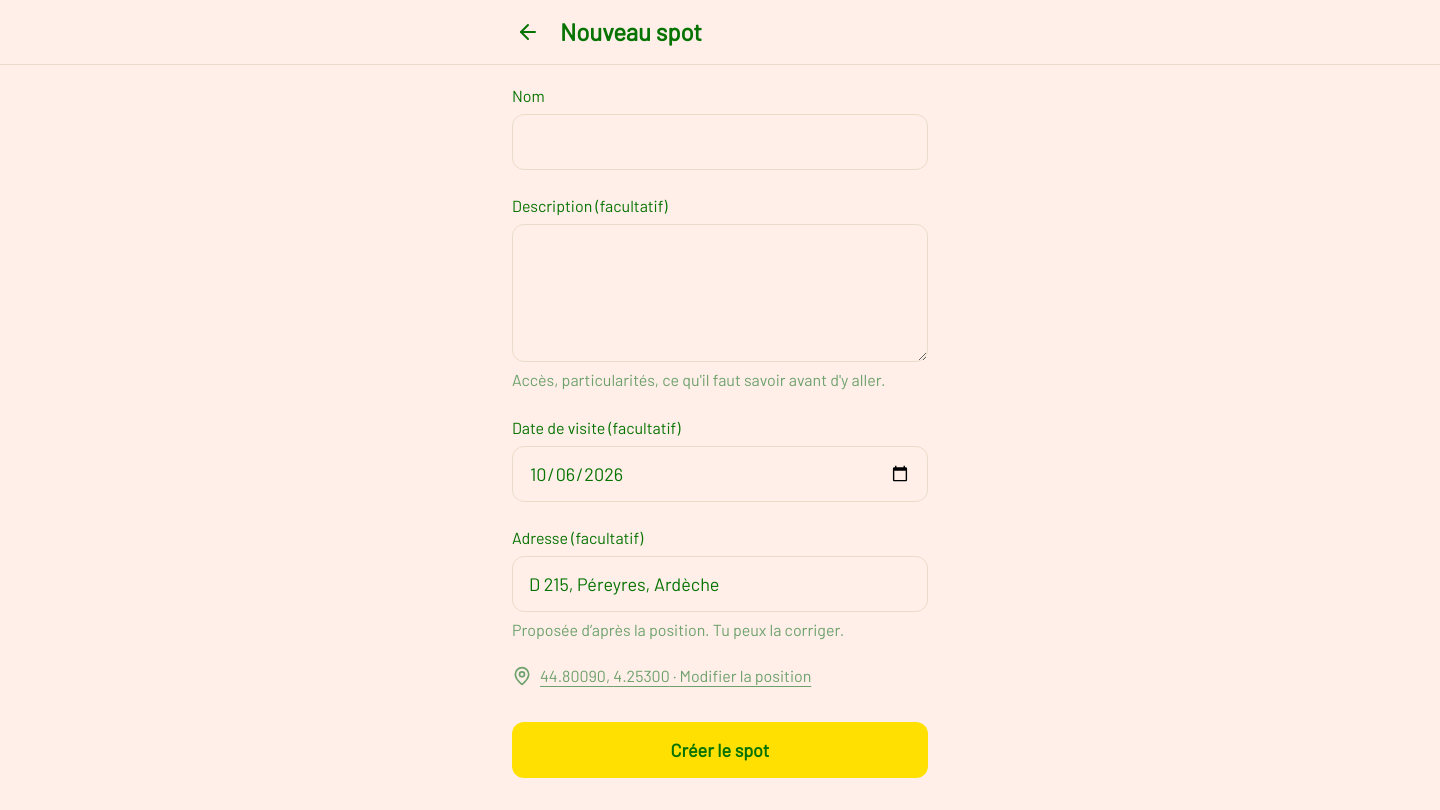
Scenario: DetailsStep › signale un type et un nom manquants sans envoyer
(page scrolled)
Click the button "Créer le spot" at point(720, 750), box 512,722 -> 928,778
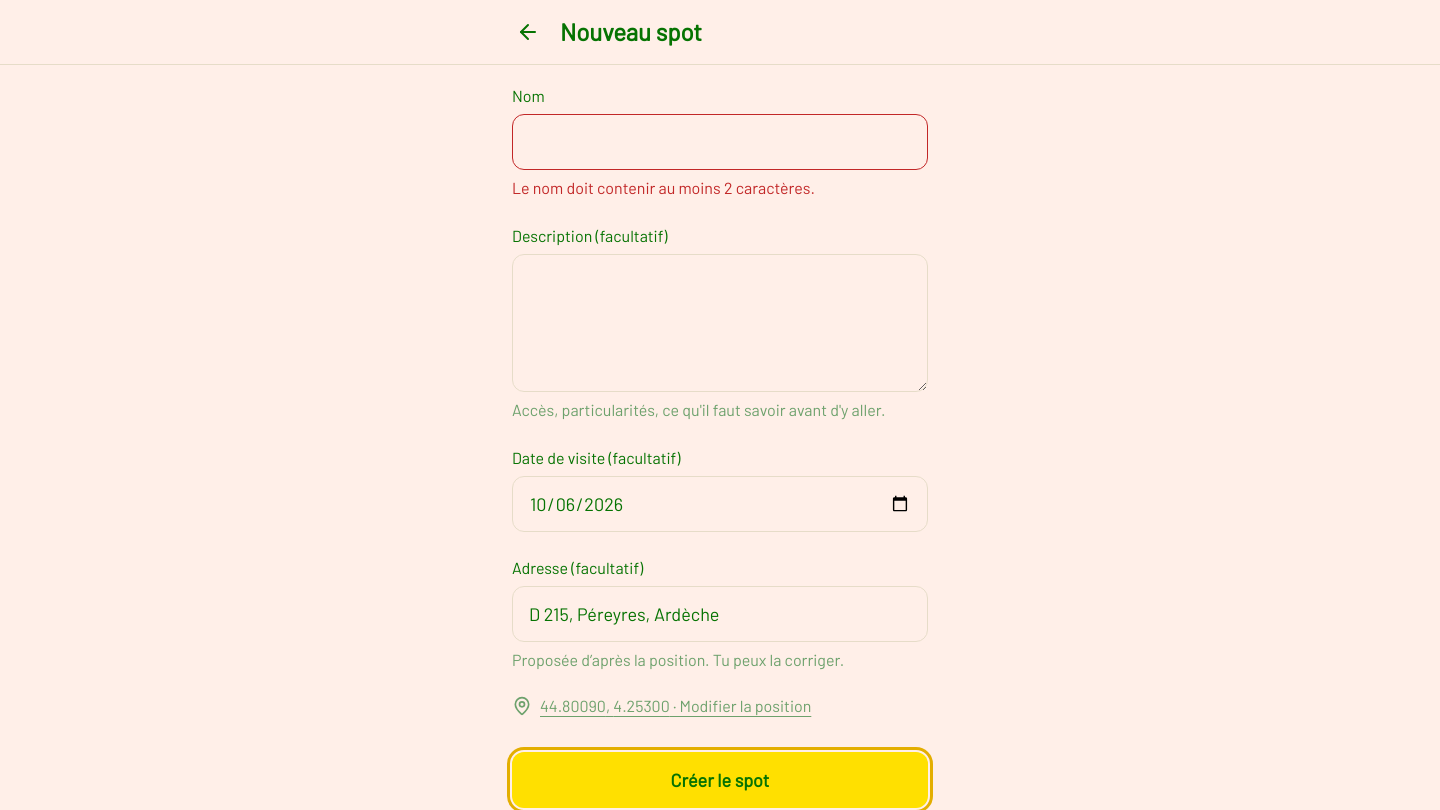
Expected: the text "Le nom doit contenir au moins 2 caractères." is shown, 512,178 -> 815,197
